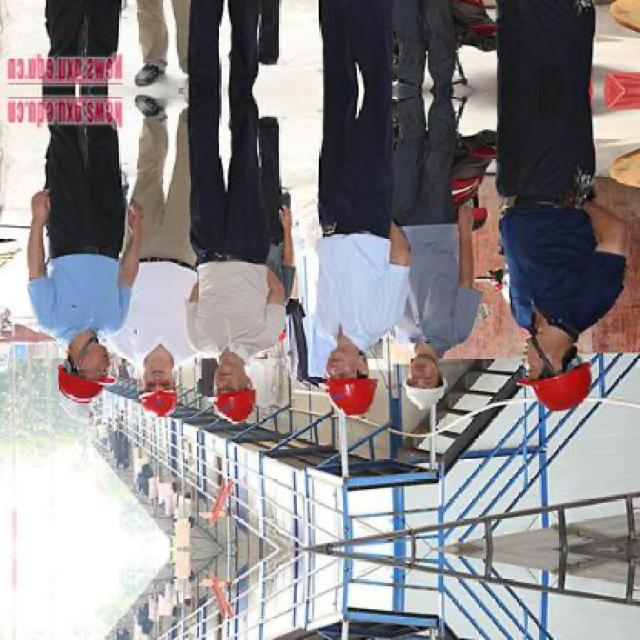con casco: (174, 367, 274, 434), (102, 366, 182, 447), (305, 346, 391, 420), (386, 345, 460, 405), (565, 371, 607, 416), (151, 389, 160, 424)
